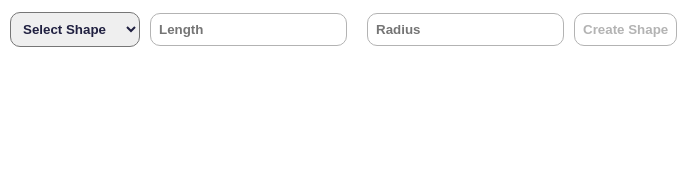
submits form
Select "Square" in the dropdown with test id "shape-select": coordinates (75, 30) top-left (10, 12), bottom-right (140, 47)
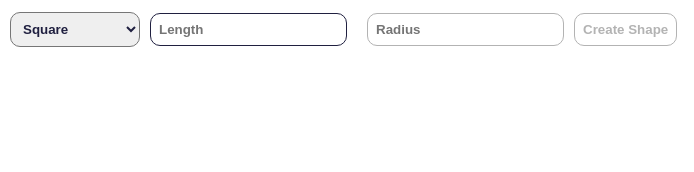
In the number field with placeholder "Length": coordinates (248, 30) top-left (150, 13), bottom-right (347, 46), type "50"
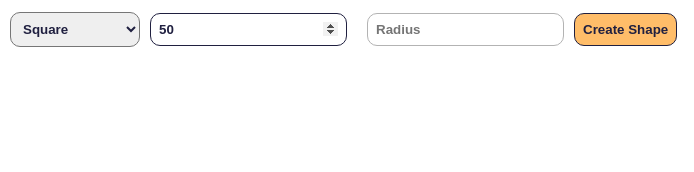
Click the button "Create Shape": coordinates (626, 30) top-left (574, 13), bottom-right (677, 46)
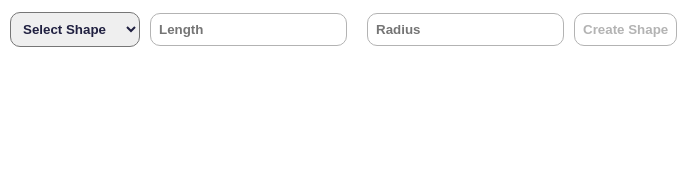
Expected: the number field with placeholder "Length" is not empty, top-left (150, 13), bottom-right (347, 46)
